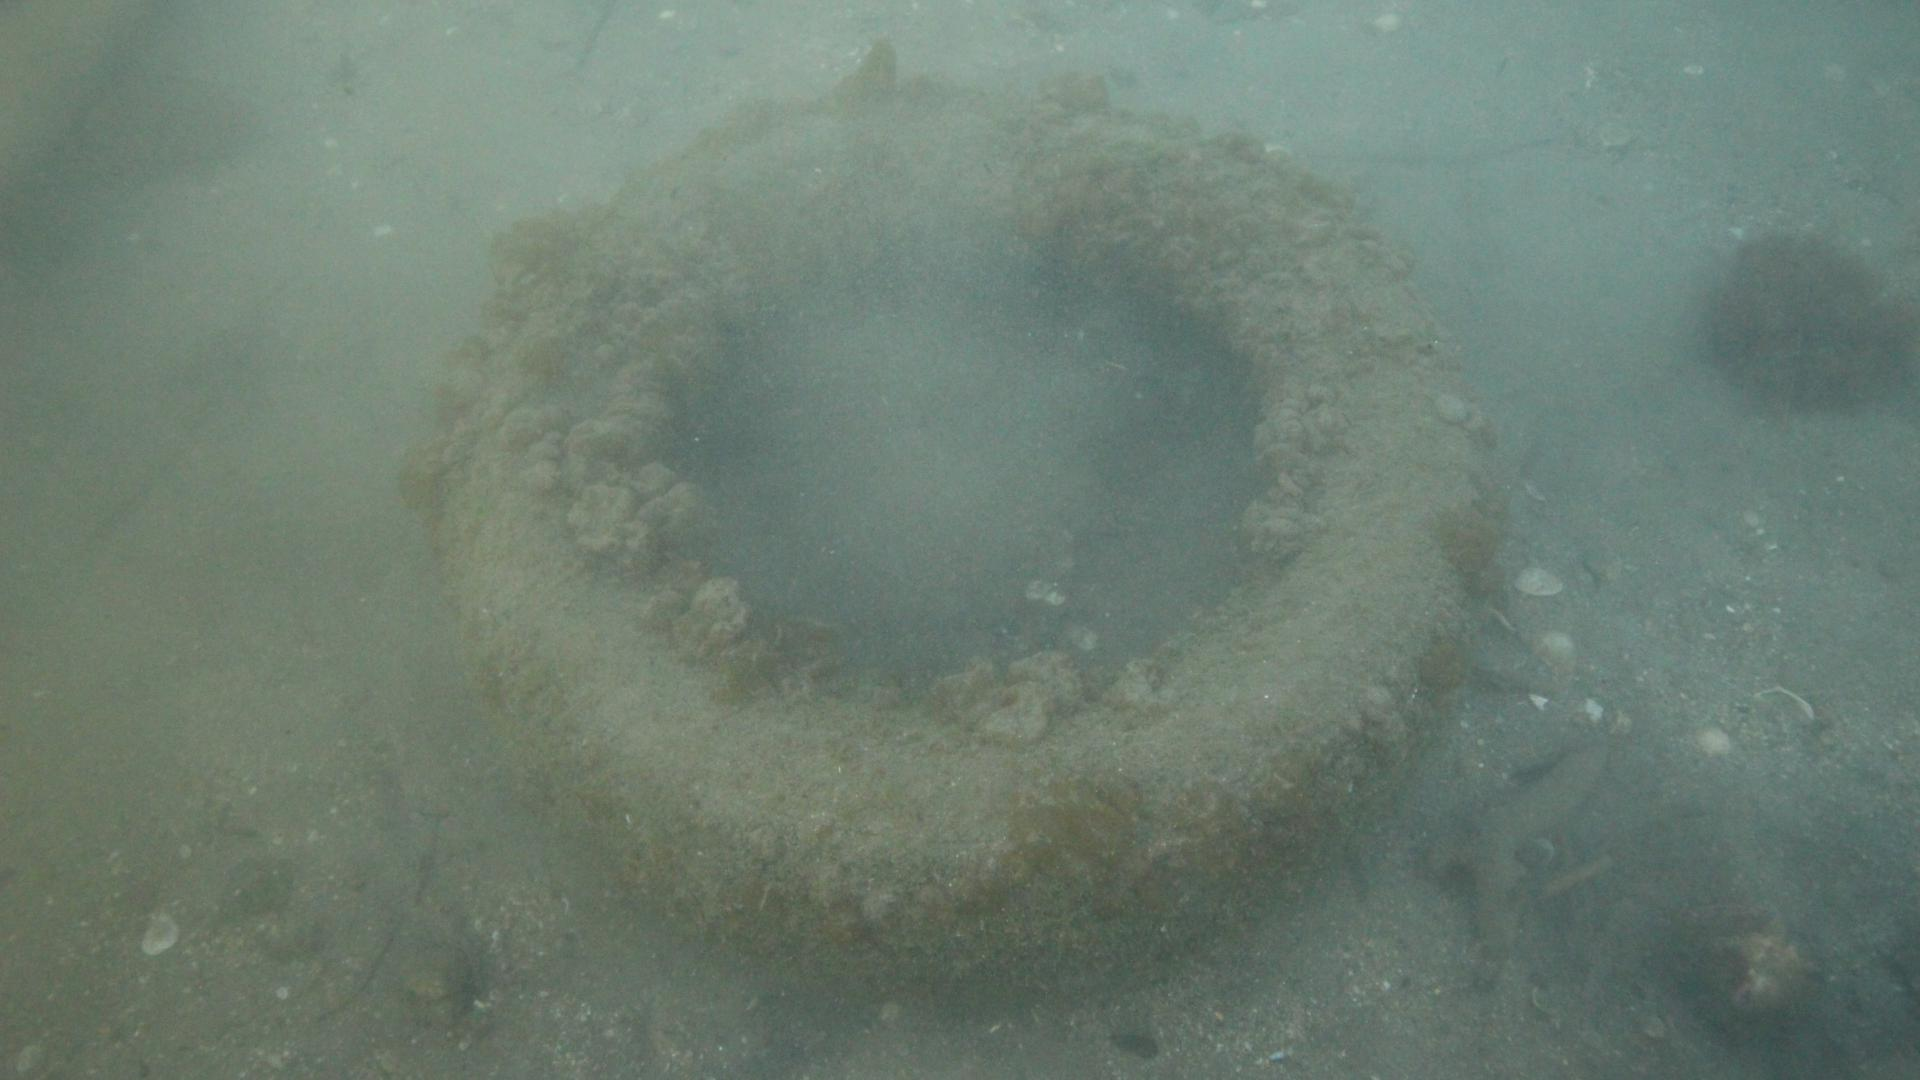tire: (429, 86, 1494, 1004)
